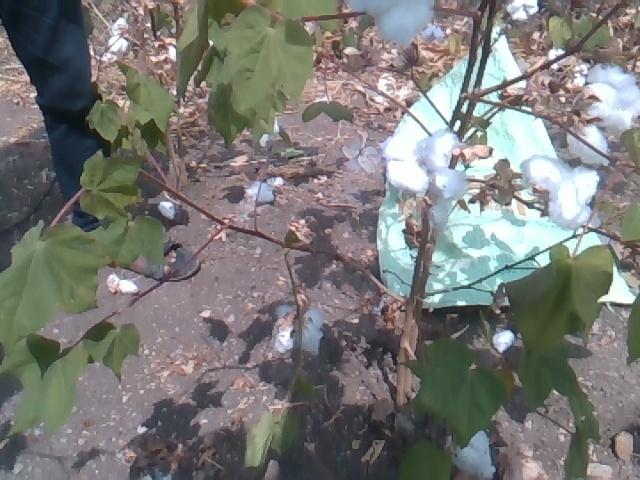cotton: (564, 57, 640, 163), (380, 133, 471, 211), (519, 151, 606, 227), (347, 1, 443, 48), (435, 424, 506, 478), (276, 303, 323, 358), (104, 271, 142, 306), (100, 20, 135, 57), (502, 1, 545, 27), (491, 329, 519, 352), (155, 200, 181, 222)
